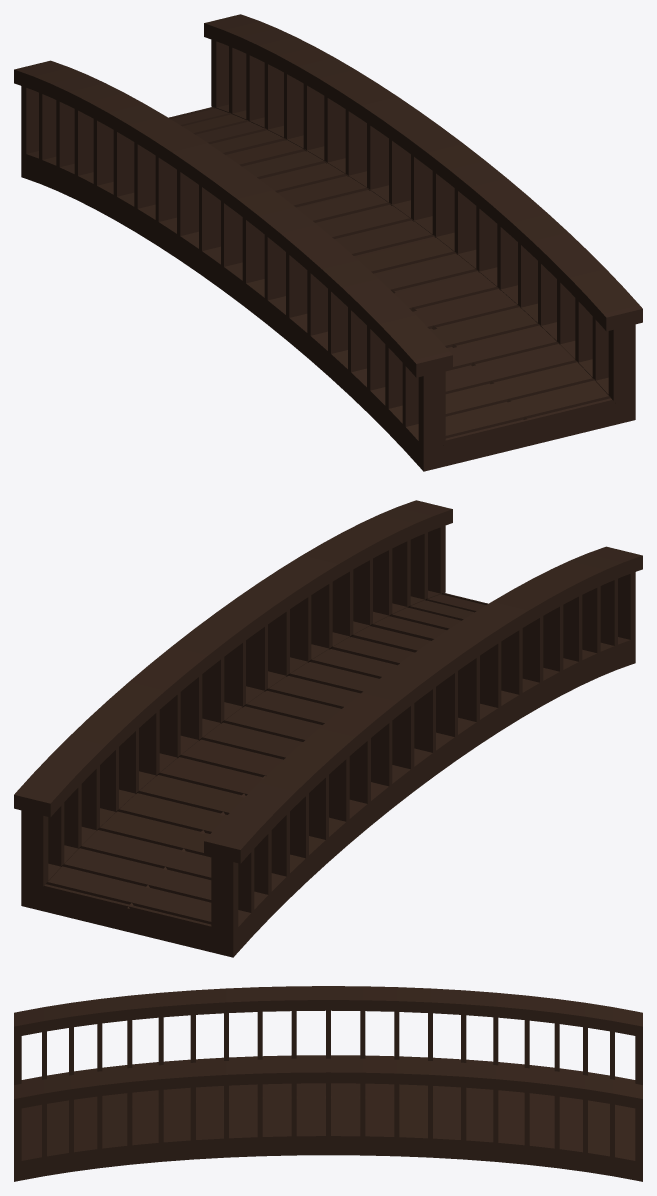
File: Bridge.fbx
The picture shows the model from 3 angles, top to bottom: view 1: azimuth 30°, elevation 25°; view 2: azimuth 150°, elevation 25°; view 3: azimuth 270°, elevation 25°; orthographic projection. The views are drawn at different scales.
Visible parts, largest first — view 1: Cube.001; view 2: Cube.001; view 3: Cube.001.
Boxes of the visible parts, x1,y1,x2,y2 form: Cube.001: [14, 14, 642, 471]; Cube.001: [14, 500, 642, 957]; Cube.001: [14, 986, 642, 1181].
Bounding box in the file's own units: 512 × 310 × 1575.
